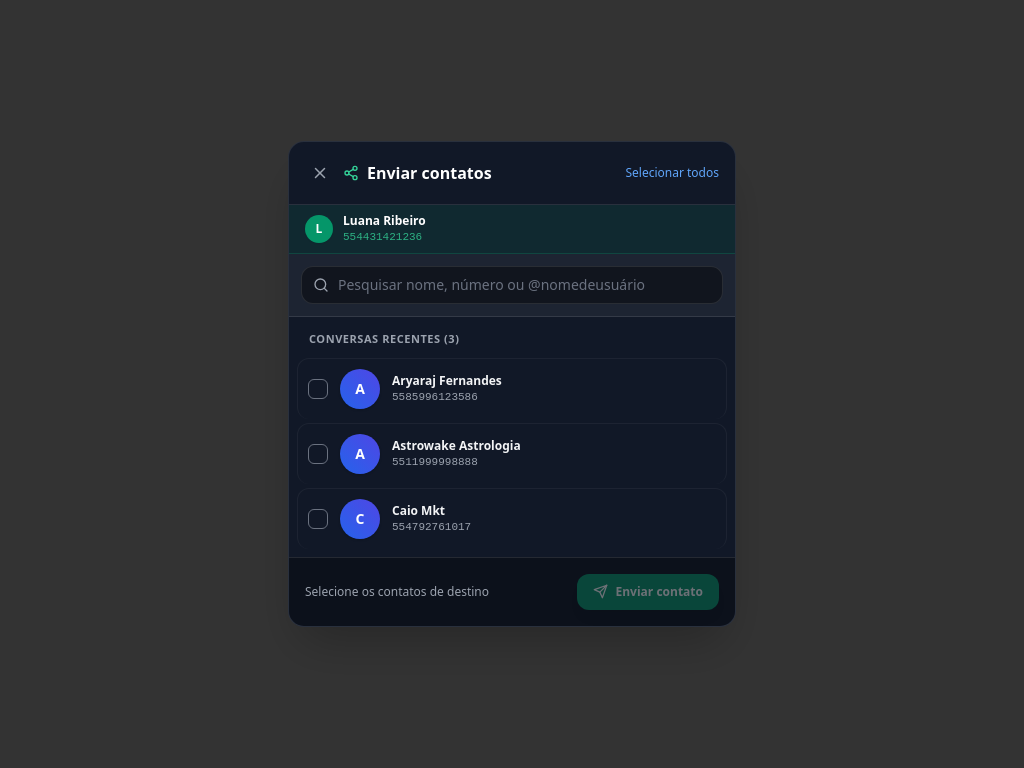
Test: ShareContactModal › filtra contatos com base na busca digitada
Type "Astrowake" into the field with placeholder "Pesquisar nome, número ou @nomedeusuário".
click(512, 285); type("Astrowake")  # box [301,266,723,304]
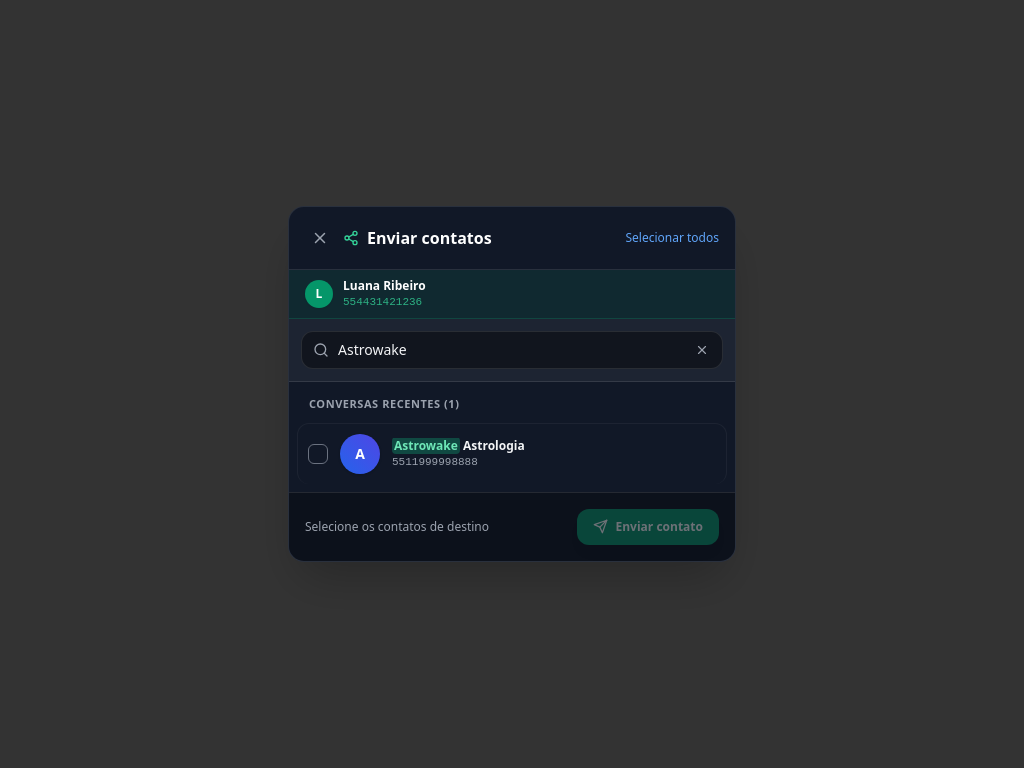
Expected: the text "Astrowake" is shown, [392,438,460,454]
Now the heading "Aryaraj Fernandes" is gone
Now the heading "Caio Mkt" is gone
